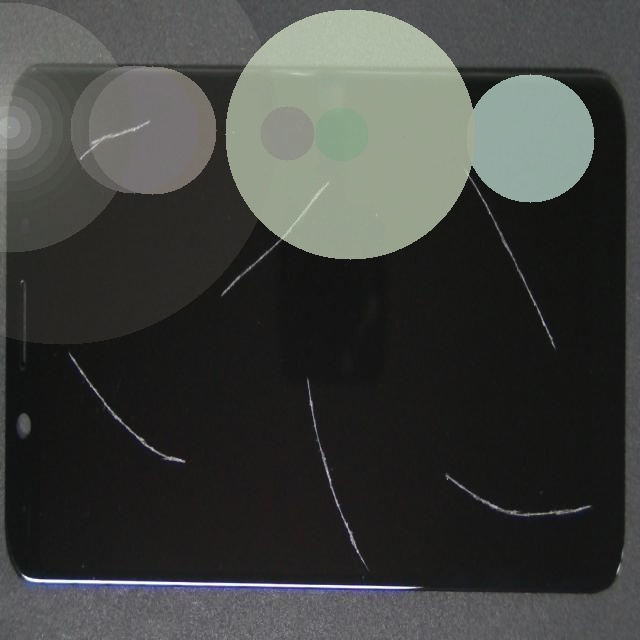scratch: (289, 214, 640, 497), (129, 248, 255, 640), (114, 26, 194, 172)
